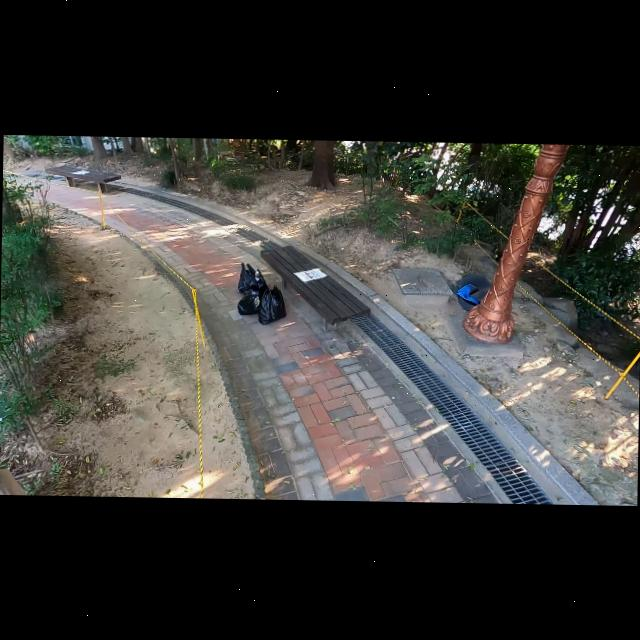trash: (454, 268, 494, 311), (260, 284, 288, 324), (236, 288, 263, 320), (246, 268, 272, 300), (237, 261, 260, 292)
